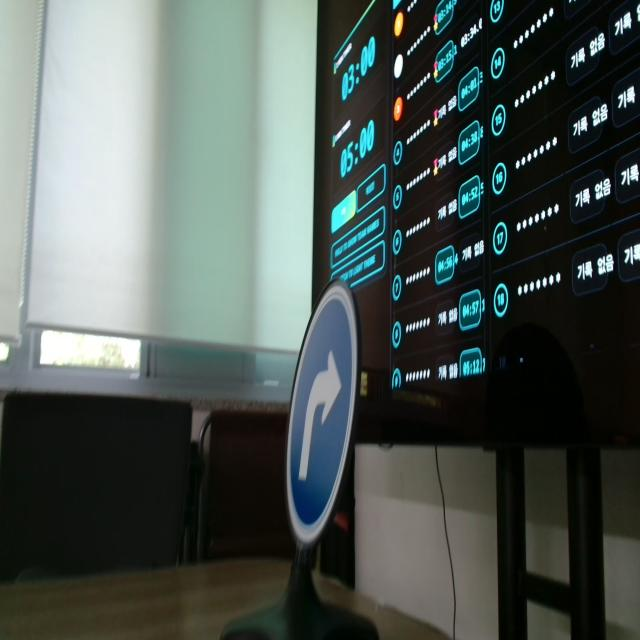right_dierection: (279, 273, 380, 538)
